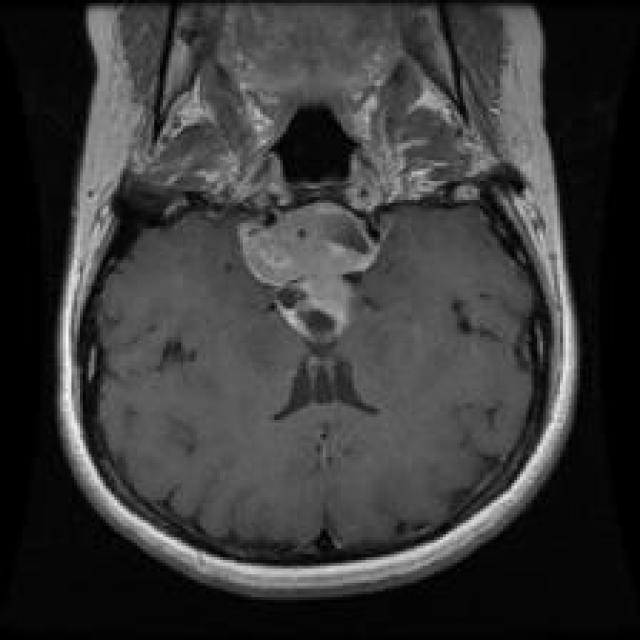pituitary_tumor: (219, 192, 402, 365)
